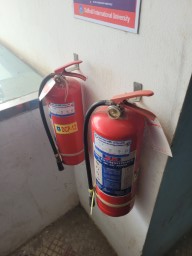fire_extinguisher: (43, 140, 129, 206)
